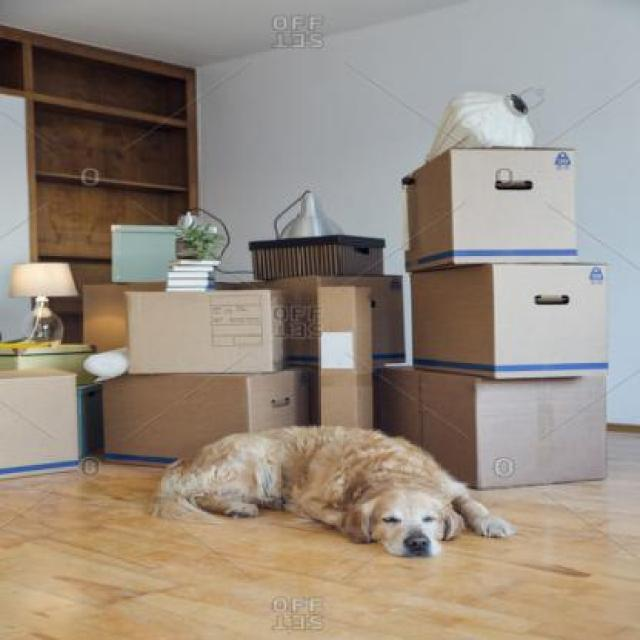box: (378, 367, 612, 480), (403, 259, 620, 376), (73, 362, 310, 466), (389, 153, 588, 268), (109, 289, 283, 375), (250, 225, 398, 284)
